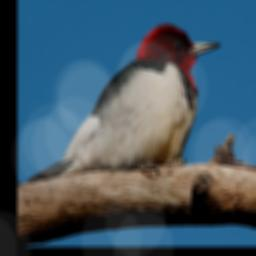Woodpecker: (25, 24, 221, 182)
